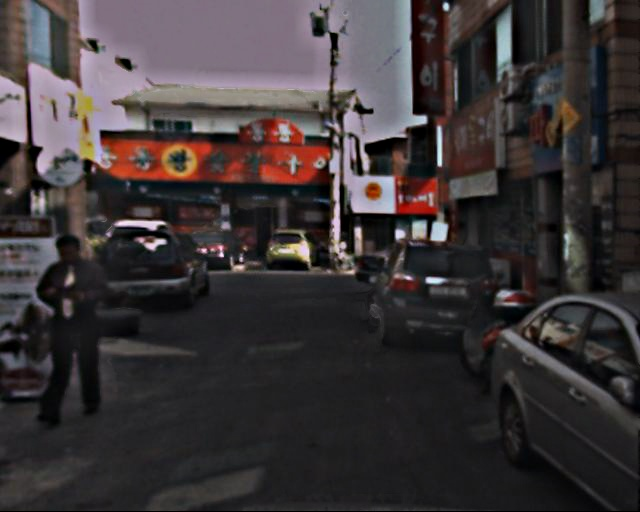person: (29, 230, 122, 426)
